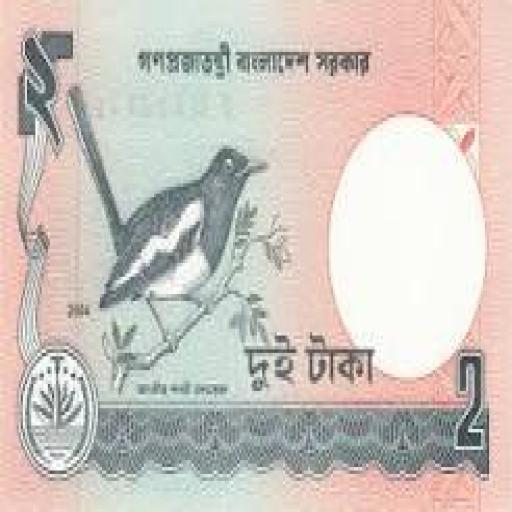2taka: (0, 0, 510, 509)
